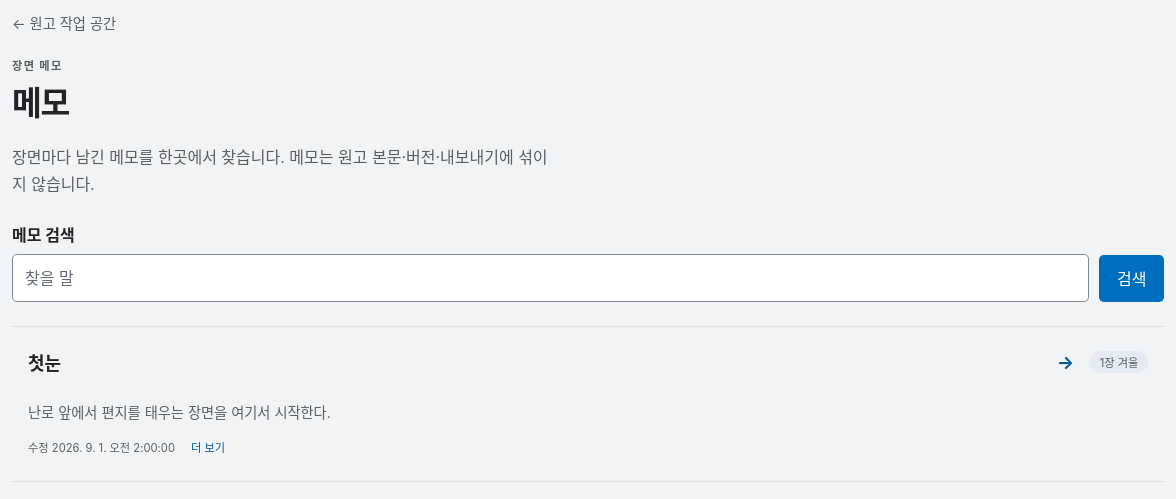
Scenario: 장면 메모 화면 › folds an expanded row back when a new list arrives
Expected: the link "첫눈 →" is shown, left=28, top=352, right=1074, bottom=374
Click the button "더 보기". click: coordinates (208, 446)
box: left=191, top=428, right=225, bottom=464
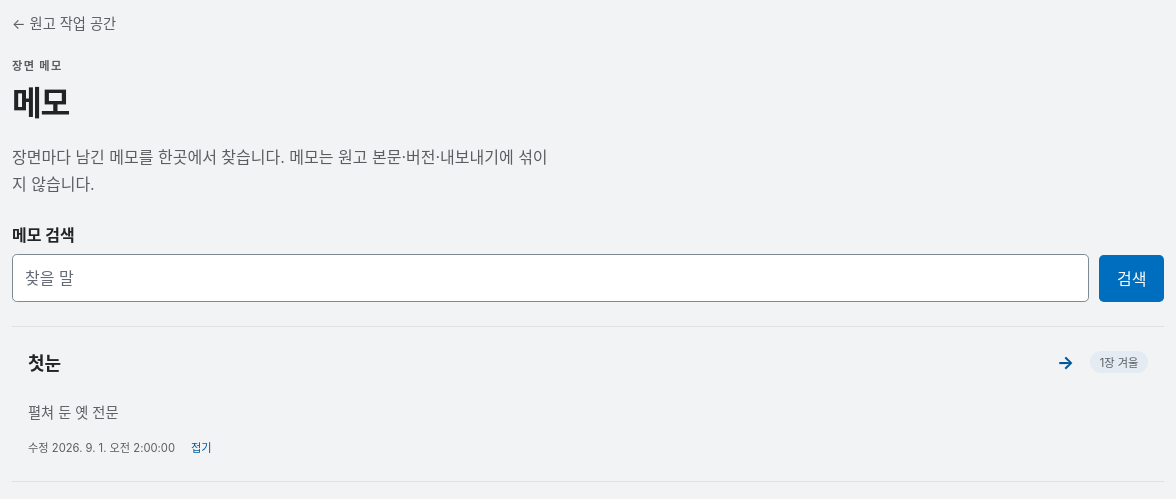
Now the text "펼쳐 둔 옛 전문" is shown, box left=28, top=404, right=118, bottom=421
Type "편지" into the search field labelled "메모 검색". click: coordinates (550, 278)
box: left=12, top=254, right=1089, bottom=302
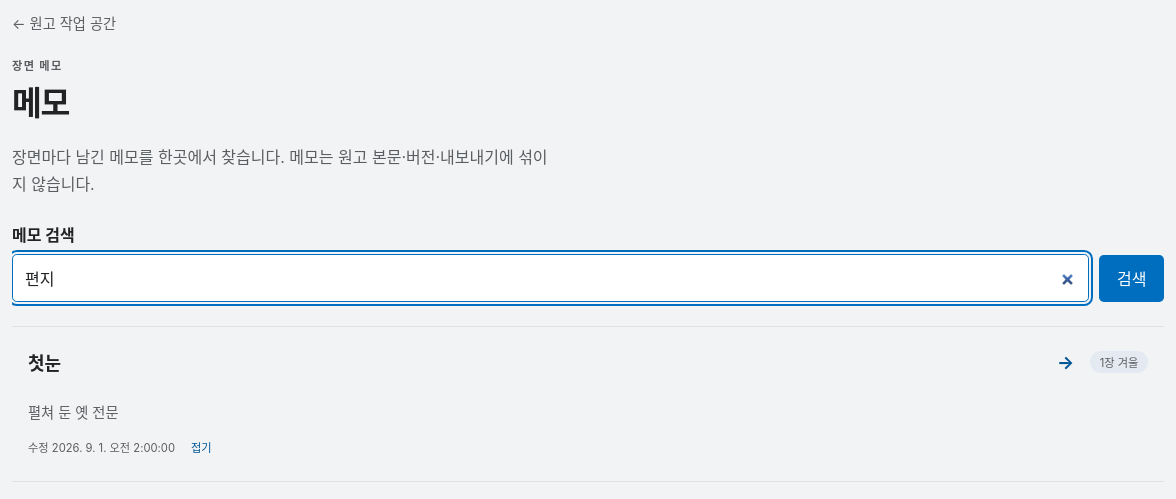
Click the button "검색". click: coordinates (1132, 278)
box: left=1099, top=255, right=1164, bottom=302
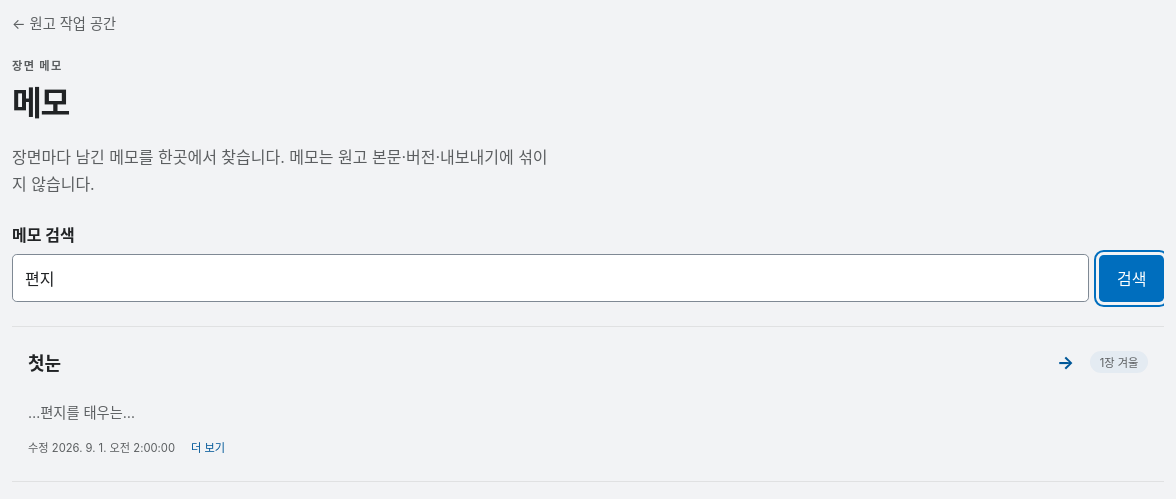
Now the text "…편지를 태우는…" is shown, box left=28, top=404, right=135, bottom=421
Now the text "펼쳐 둔 옛 전문" is gone
Now the button "더 보기" is shown, box left=191, top=428, right=225, bottom=464
